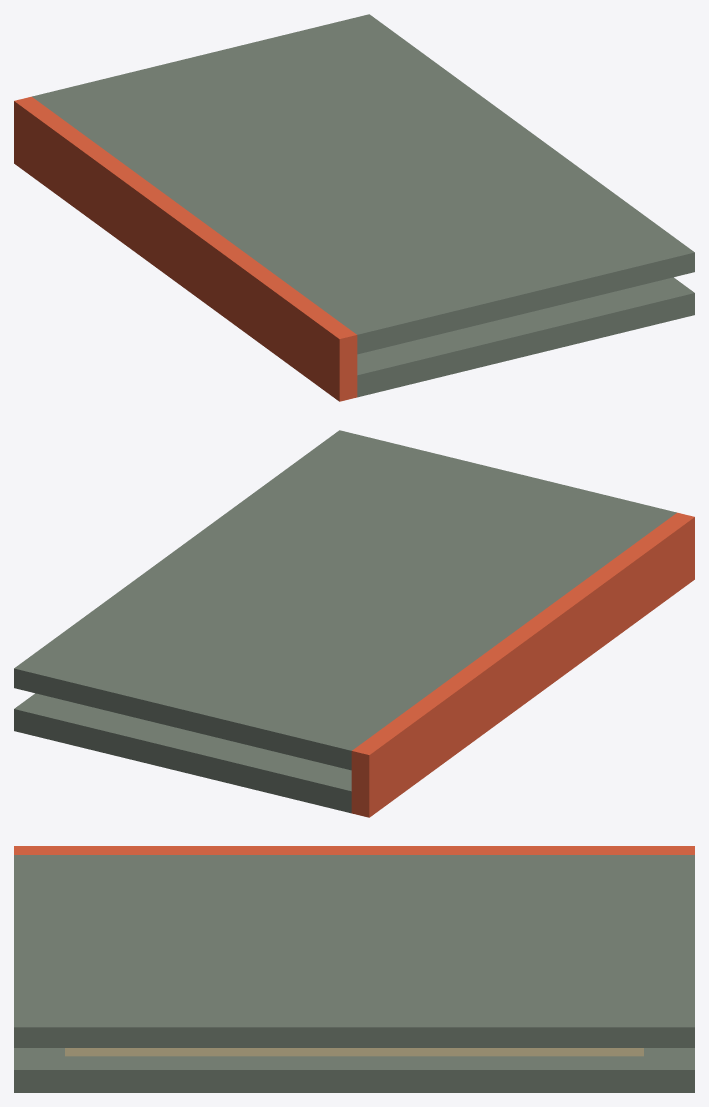
Rendered from book_grey.fbx.
3 renders of one model, top to bottom at view 1: azimuth 30°, elevation 25°; view 2: azimuth 150°, elevation 25°; view 3: azimuth 270°, elevation 25°, orthographic. The views are drawn at different scales.
Parts seen in each view (by area): view 1: Cube; view 2: Cube; view 3: Cube.
Part boxes in pixels (x1,y1,x2,y2): Cube: [14, 14, 694, 401]; Cube: [14, 430, 694, 817]; Cube: [14, 846, 694, 1092].
Bounding box in the file's own units: 126 × 21.22 × 200.
